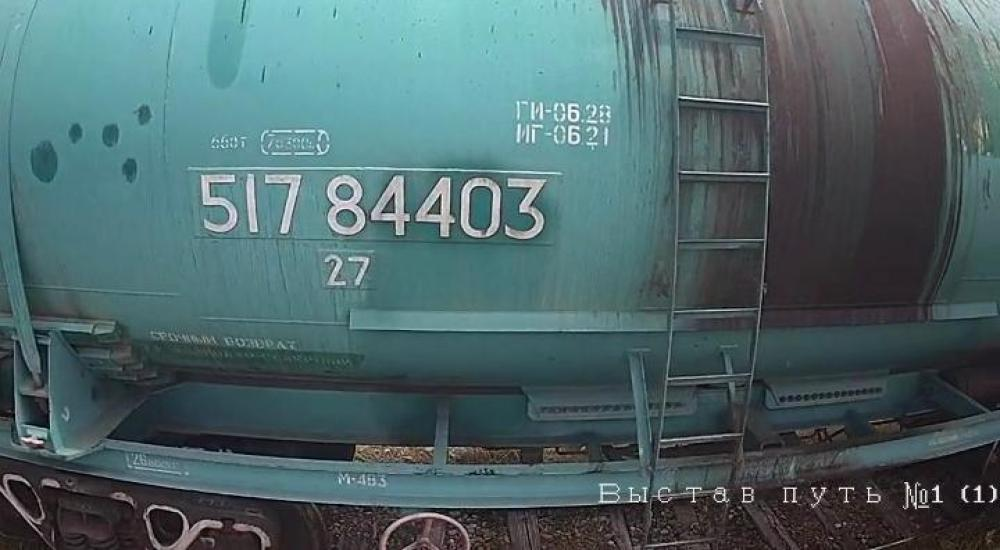Wagon-number: (188, 167, 554, 244)
